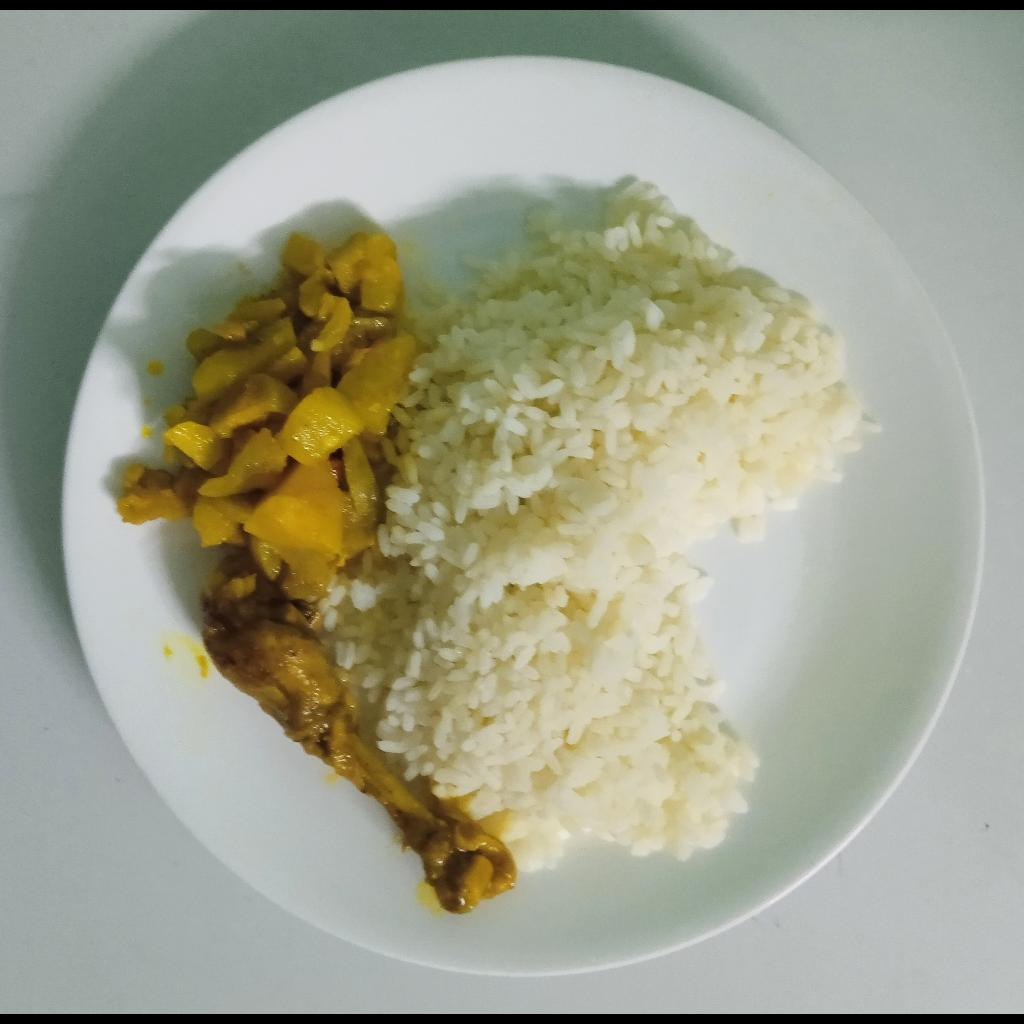chicken: (199, 554, 521, 912)
lau: (110, 221, 419, 604)
rice: (313, 170, 899, 875)
